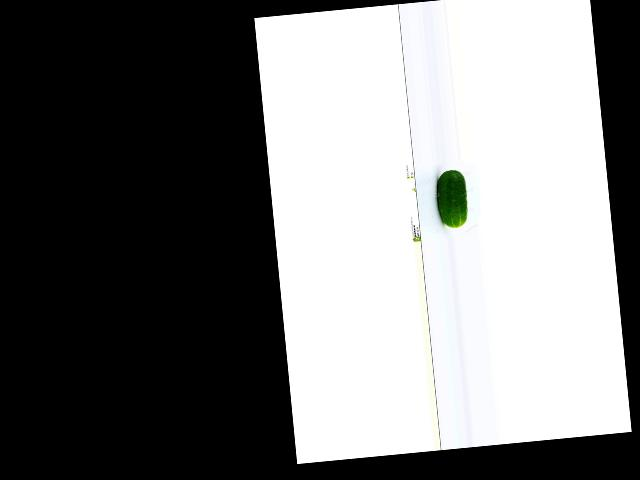cucumber: (434, 168, 468, 228)
